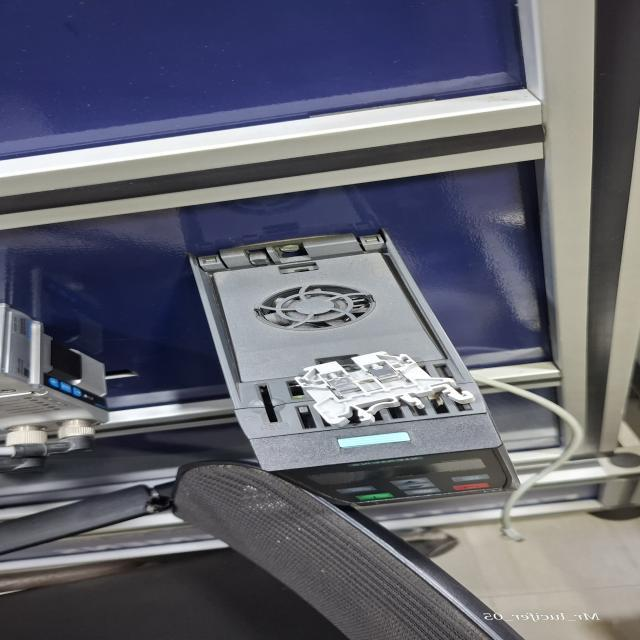Pass: (297, 351, 477, 426)
